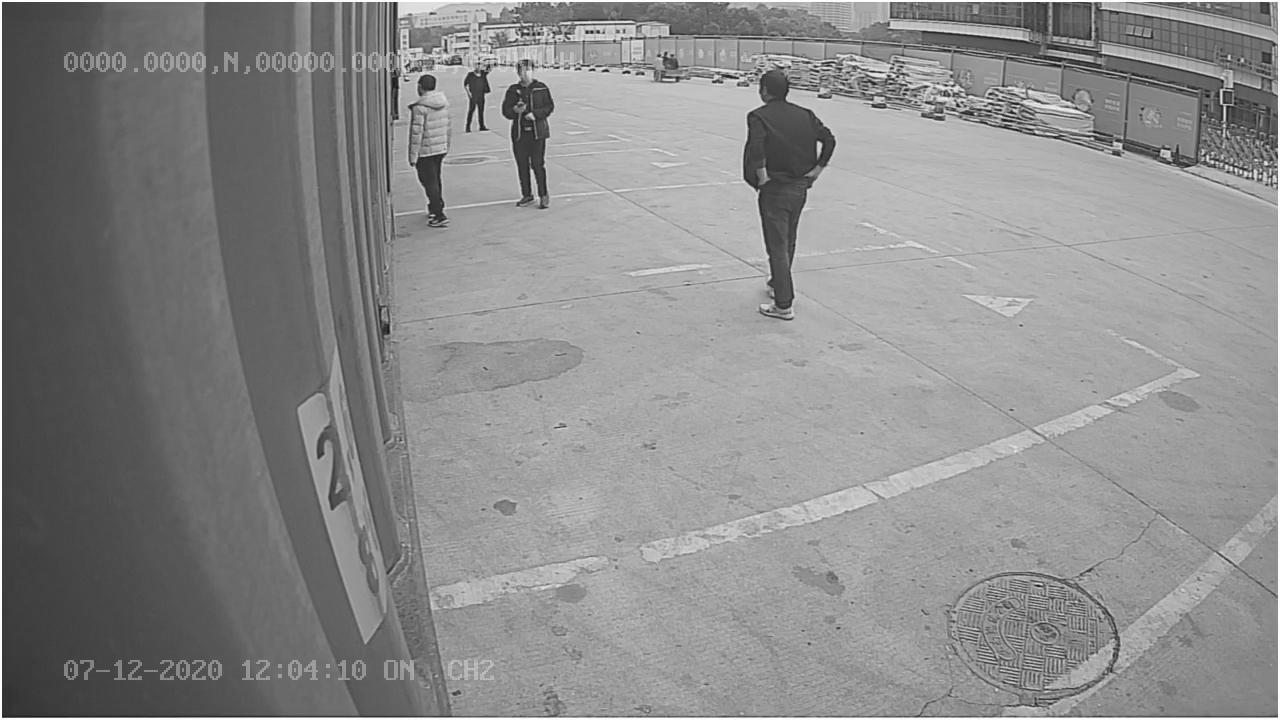person: (741, 67, 837, 323)
